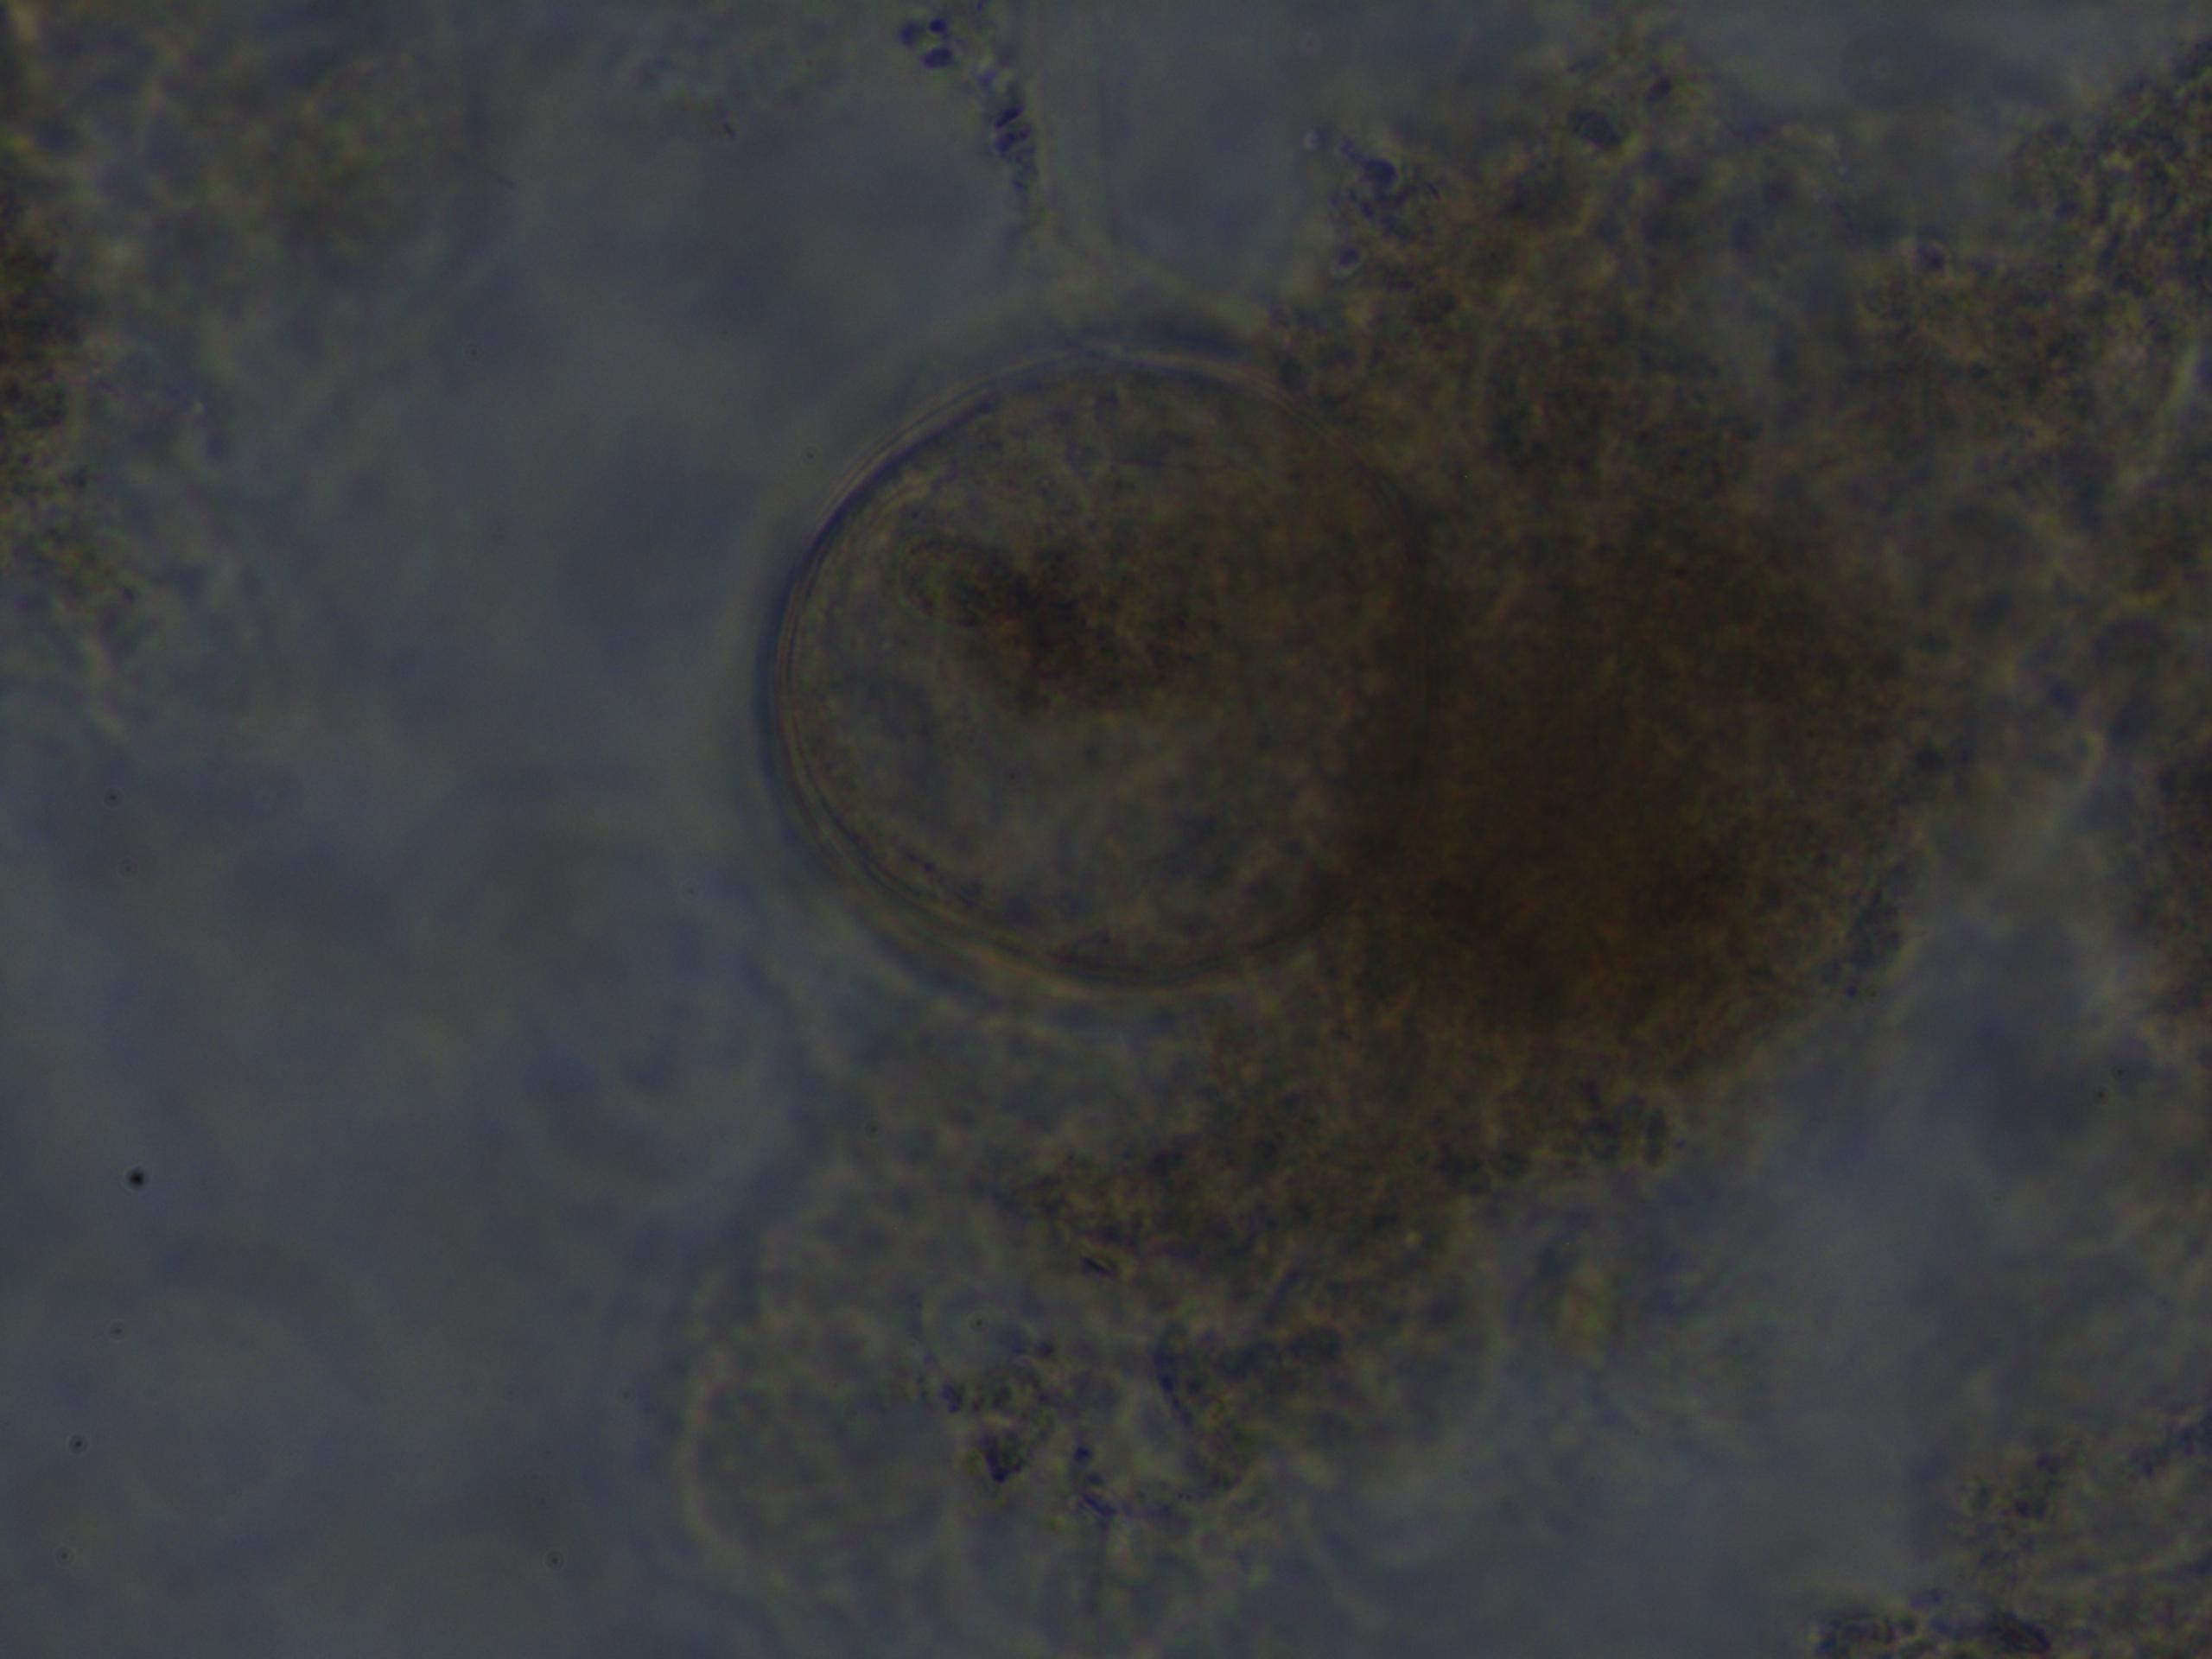protozoa: (742, 331, 1447, 1021)
